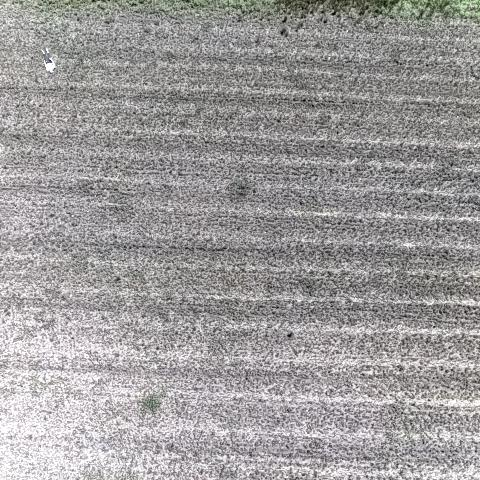person: (37, 46, 58, 74)
